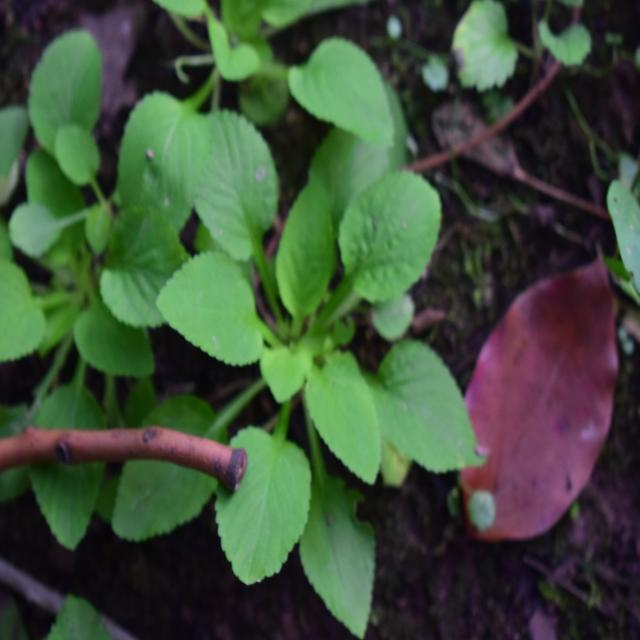Viola: (169, 119, 475, 561)
